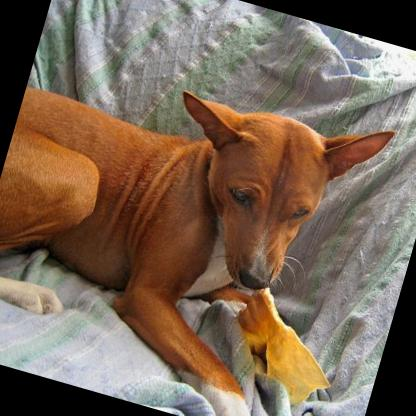basenji: (0, 27, 400, 416)
